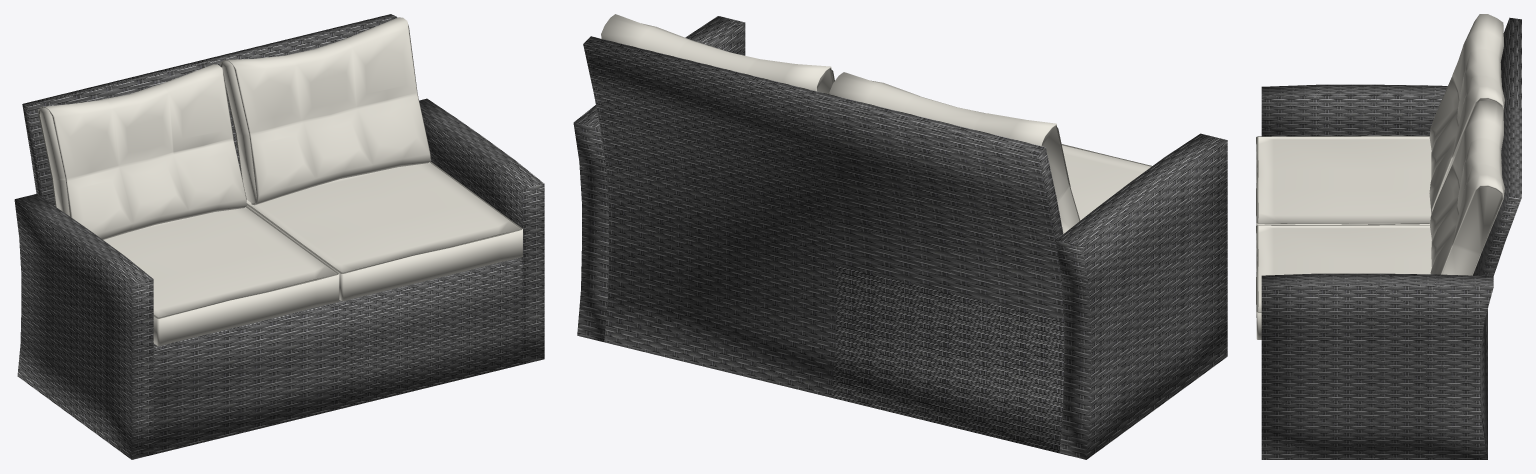
File: scopia-rattanSofa-quality-v2.glb
The picture shows the model from 3 angles, left to right: view 1: azimuth 30°, elevation 25°; view 2: azimuth 150°, elevation 25°; view 3: azimuth 270°, elevation 25°; orthographic projection. The views are drawn at different scales.
Visible parts, largest first — view 1: sofa_Cube.001, backCushion_Cube.003, backCushion2_Cube.006, baseCushion_Cube.002, baseCushion2_Cube.005; view 2: sofa_Cube.001, backCushion2_Cube.006, backCushion_Cube.003, baseCushion2_Cube.005; view 3: sofa_Cube.001, baseCushion2_Cube.005, baseCushion_Cube.002, backCushion_Cube.003, backCushion2_Cube.006.
Boxes of the visible parts, x1=… form: sofa_Cube.001: x1=14, y1=14, x2=544, y2=459; backCushion_Cube.003: x1=220, y1=17, x2=430, y2=205; backCushion2_Cube.006: x1=38, y1=64, x2=247, y2=239; baseCushion_Cube.002: x1=246, y1=161, x2=522, y2=301; baseCushion2_Cube.005: x1=103, y1=206, x2=339, y2=345; sofa_Cube.001: x1=573, y1=16, x2=1227, y2=459; backCushion2_Cube.006: x1=829, y1=72, x2=1080, y2=233; backCushion_Cube.003: x1=601, y1=14, x2=834, y2=94; baseCushion2_Cube.005: x1=1061, y1=144, x2=1151, y2=220; sofa_Cube.001: x1=1261, y1=17, x2=1521, y2=459; baseCushion2_Cube.005: x1=1256, y1=135, x2=1431, y2=225; baseCushion_Cube.002: x1=1256, y1=224, x2=1431, y2=339; backCushion_Cube.003: x1=1430, y1=100, x2=1504, y2=275; backCushion2_Cube.006: x1=1429, y1=14, x2=1504, y2=214.
Size of the model in its own units: 1.29 by 0.787 by 0.724.
Materials: 3 (1 with a texture image).
